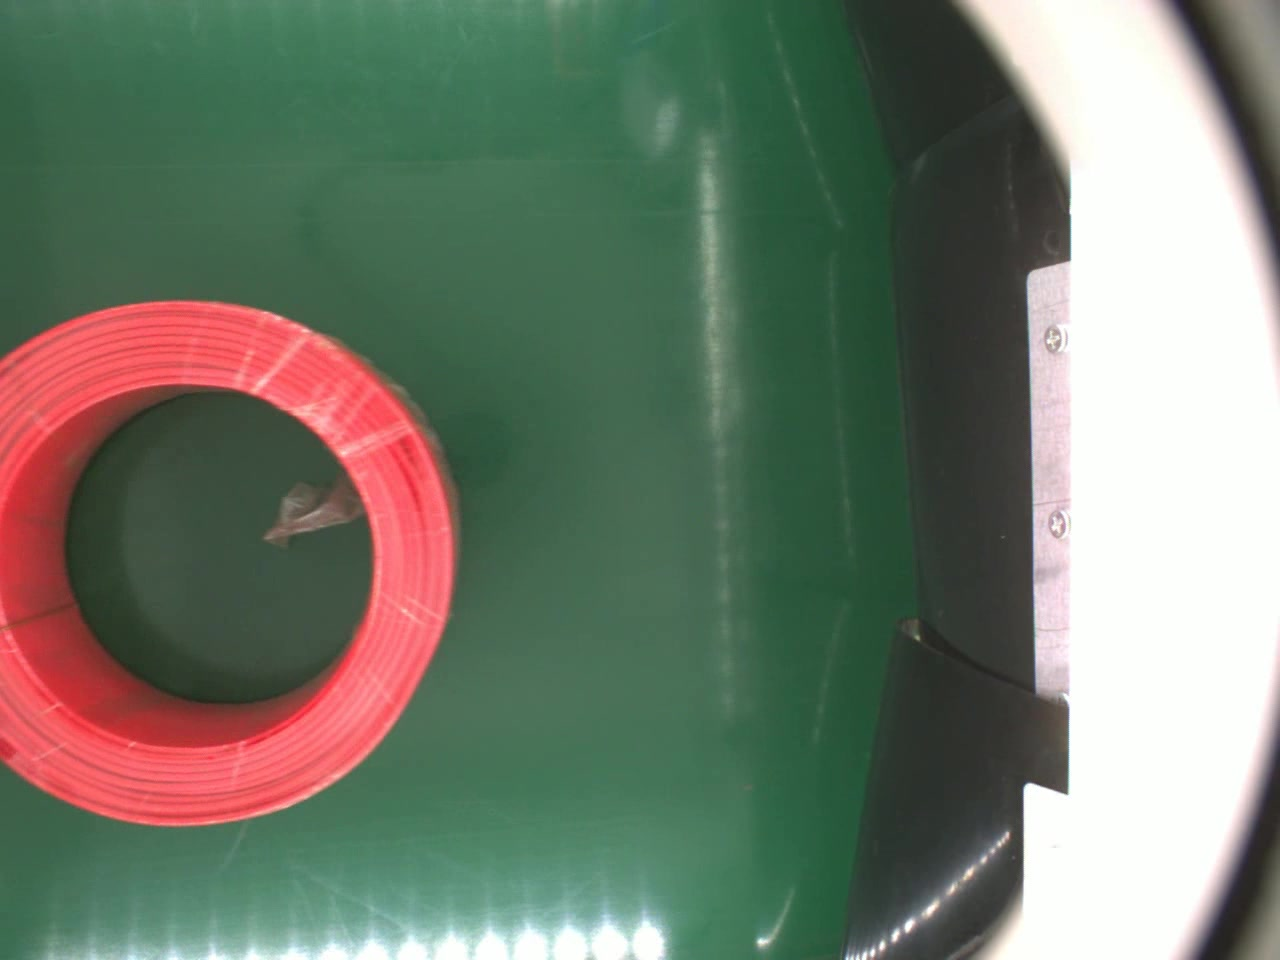red: (0, 291, 462, 829)
